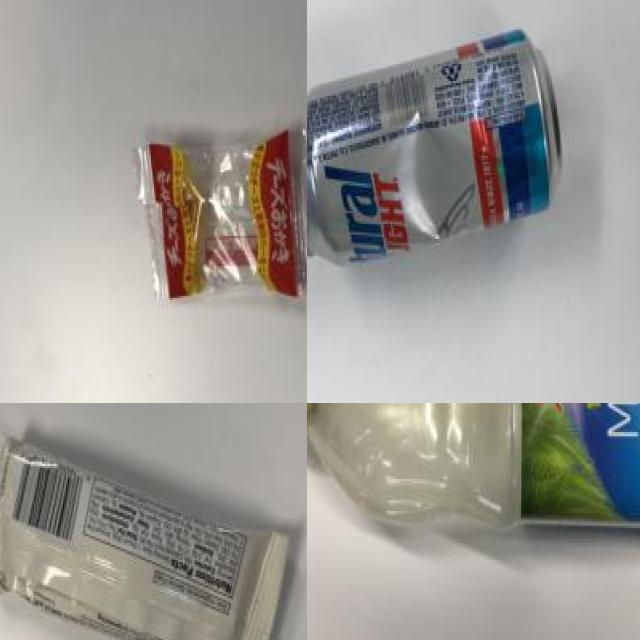plastic: (307, 25, 568, 260), (307, 403, 640, 545)
trash: (0, 403, 307, 640), (118, 115, 307, 330)
